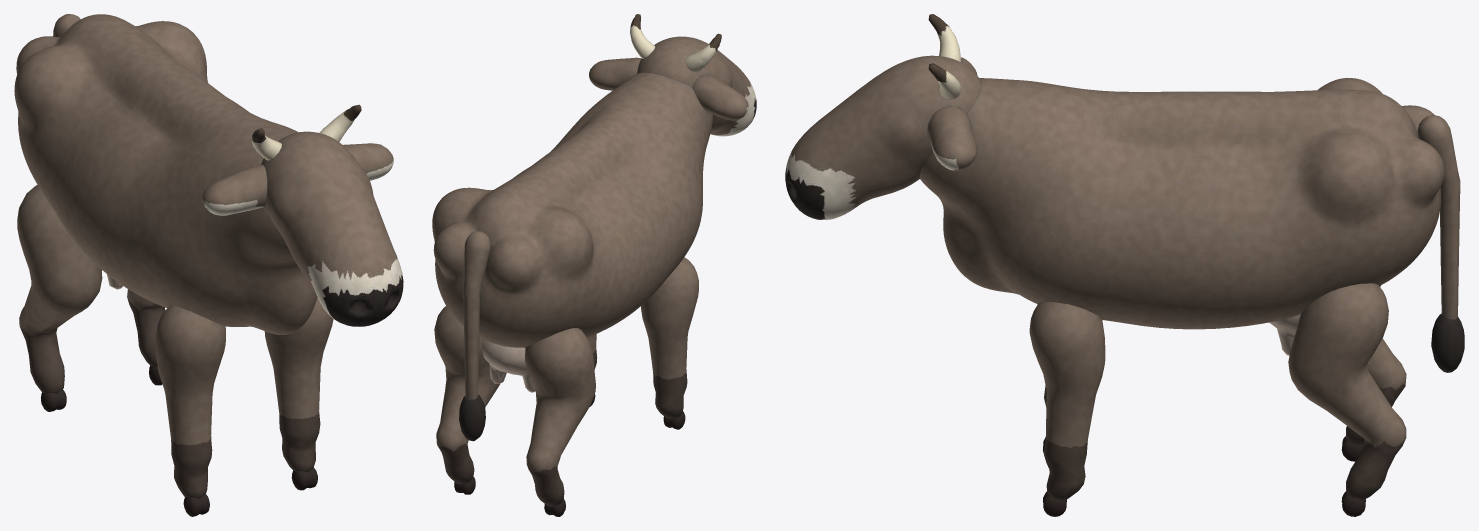
Rendered from animal_brown_swiss.glb.
3 views of the same model, side by side, from view 1: azimuth 30°, elevation 25°; view 2: azimuth 150°, elevation 25°; view 3: azimuth 270°, elevation 25° (orthographic). The views are drawn at different scales.
Visible parts, largest first — view 1: animal_brown_swiss, head, leg2, leg0, leg1, leg3; view 2: animal_brown_swiss, leg2, head, leg0, leg3, tail; view 3: animal_brown_swiss, head, leg3, leg1, tail, leg2.
Part boxes in pixels (box(x1,y1,x2,y2)): animal_brown_swiss: box(14, 14, 317, 334); head: box(202, 104, 403, 326); leg2: box(17, 185, 102, 411); leg0: box(155, 305, 225, 516); leg1: box(264, 297, 333, 490); leg3: box(127, 289, 165, 385); animal_brown_swiss: box(432, 72, 712, 392); leg2: box(525, 328, 595, 516); head: box(589, 14, 756, 136); leg0: box(641, 257, 698, 429); leg3: box(434, 306, 500, 494); tail: box(459, 231, 490, 441); animal_brown_swiss: box(920, 78, 1444, 355); head: box(785, 14, 981, 219); leg3: box(1288, 283, 1406, 516); leg1: box(1029, 302, 1105, 516); tail: box(1417, 115, 1464, 372); leg2: box(1341, 285, 1406, 461).
Bounding box in the file's own units: 0.2778 × 0.5896 × 0.8126.
1 material, 1 textured.
